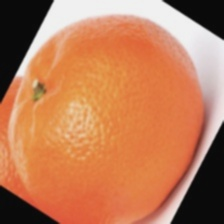orange: (23, 1, 224, 190)
